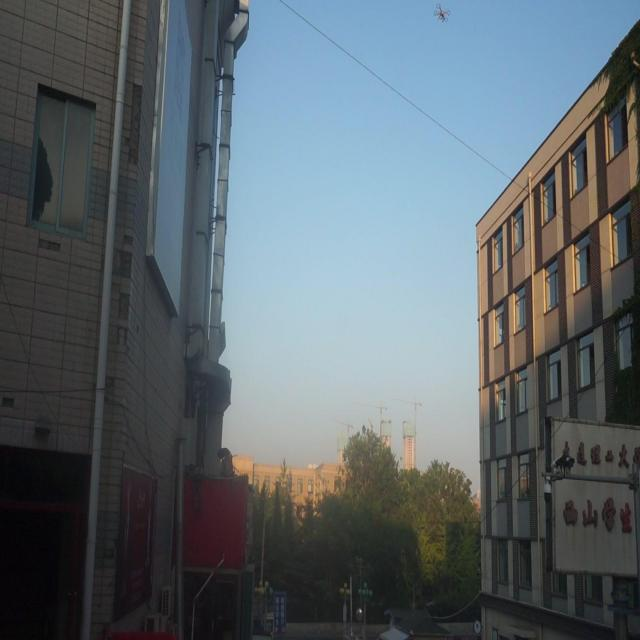UAV: (433, 3, 451, 23)
